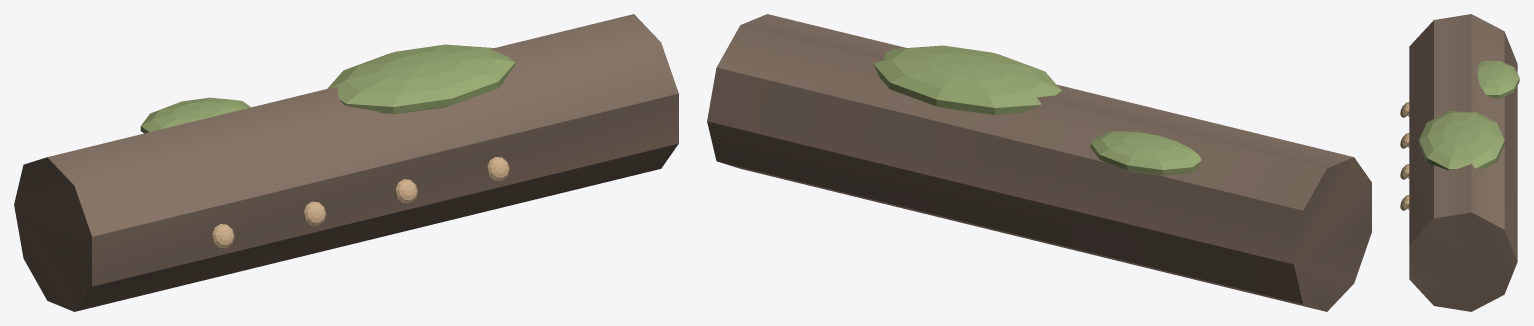
The model's file is Log_Fallen.fbx.
The picture shows the model from 3 angles, left to right: view 1: azimuth 30°, elevation 25°; view 2: azimuth 150°, elevation 25°; view 3: azimuth 270°, elevation 25°; orthographic projection. The views are drawn at different scales.
Parts seen in each view (by area): view 1: Res_Log_Fallen; view 2: Res_Log_Fallen; view 3: Res_Log_Fallen.
Boxes of the visible parts, x1=… form: Res_Log_Fallen: x1=14, y1=14, x2=678, y2=311; Res_Log_Fallen: x1=707, y1=14, x2=1371, y2=311; Res_Log_Fallen: x1=1400, y1=14, x2=1519, y2=311.
Size of the model in its own units: 3.2 by 0.7942 by 0.8146.
